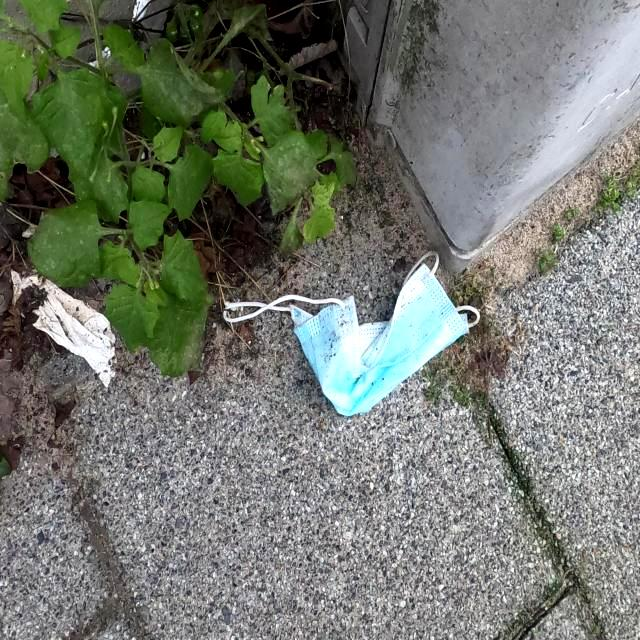Mask: (220, 246, 482, 422)
Paper: (8, 268, 118, 390)
